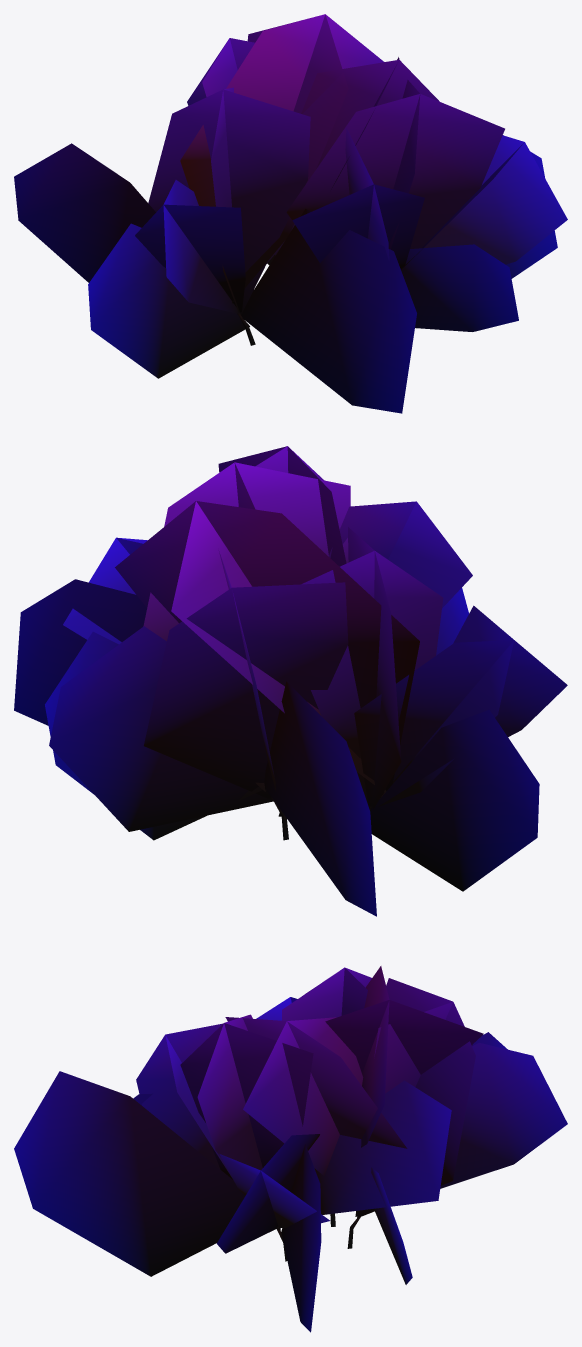
File: Bush_A_03.fbx
3 views of the same model, one above another, from view 1: azimuth 30°, elevation 25°; view 2: azimuth 150°, elevation 25°; view 3: azimuth 270°, elevation 25° (orthographic). The views are drawn at different scales.
Parts seen in each view (by area): view 1: Bush_A_03; view 2: Bush_A_03; view 3: Bush_A_03.
Part boxes in pixels (x1=…): Bush_A_03: x1=14, y1=14, x2=567, y2=413; Bush_A_03: x1=14, y1=446, x2=567, y2=916; Bush_A_03: x1=14, y1=966, x2=567, y2=1332.
Bounding box in the file's own units: 342 × 215 × 363.
